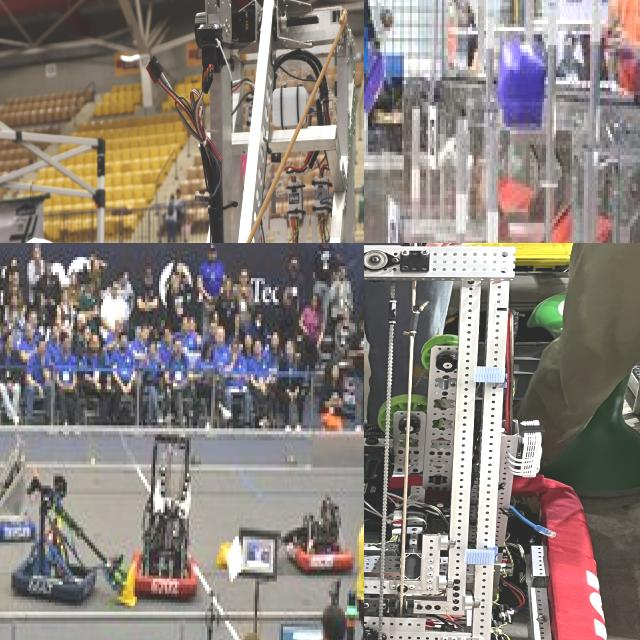FRC-Robots: (364, 243, 616, 640), (91, 0, 364, 243), (134, 428, 218, 606), (14, 486, 104, 628), (287, 494, 353, 598), (0, 438, 44, 542)
